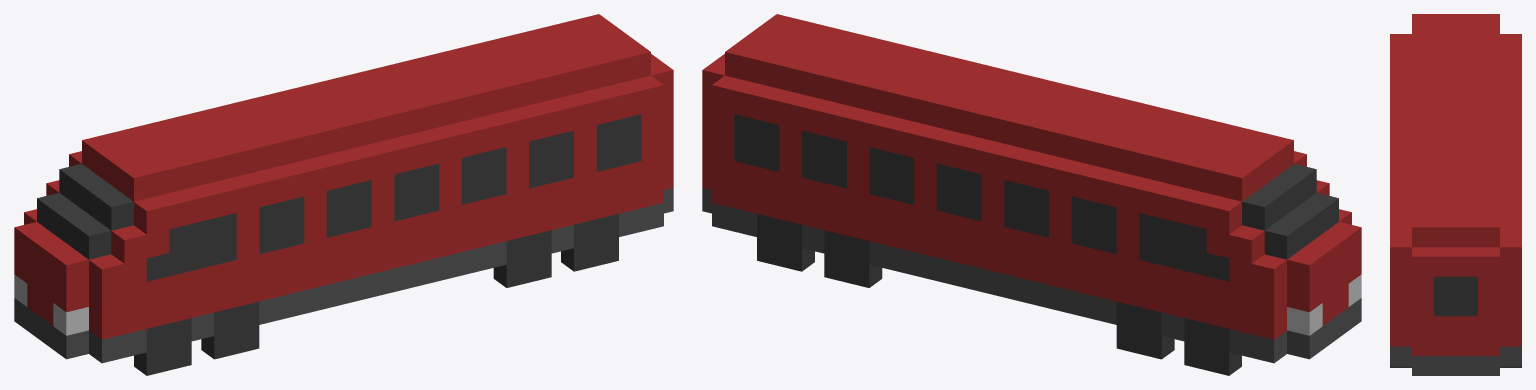
The model's file is train-v2-red.gltf.
3 views of the same model, side by side, from view 1: azimuth 30°, elevation 25°; view 2: azimuth 150°, elevation 25°; view 3: azimuth 270°, elevation 25° (orthographic). The views are drawn at different scales.
Visible parts, largest first — view 1: model, wheels; view 2: model, wheels; view 3: model.
Part boxes in pixels (x1,y1,x2,y2): model: [14, 14, 673, 363]; wheels: [134, 214, 618, 375]; model: [702, 14, 1361, 363]; wheels: [757, 214, 1241, 375]; model: [1390, 14, 1521, 375].
Bounding box in the file's own units: 2.7 × 0.8 × 0.6.
2 materials, 2 textured.
